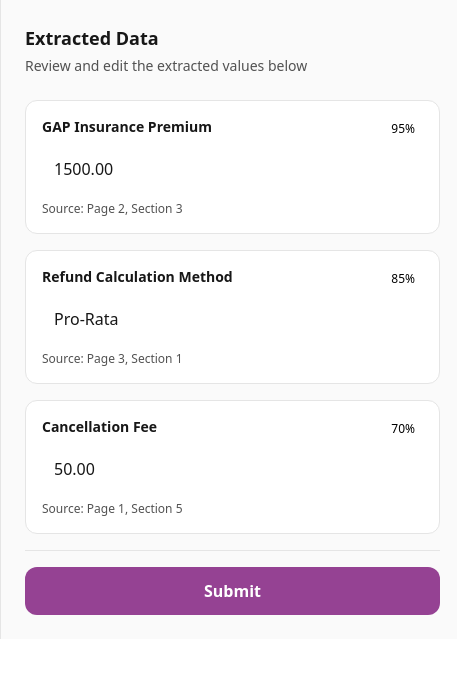
Scenario: DataPanel Component › Field Editing › should track corrections when field is edited
The image size is (457, 684).
// Click on GAP premium value to edit
Click the button "1500.00": (84, 169) 54,158 -> 113,180
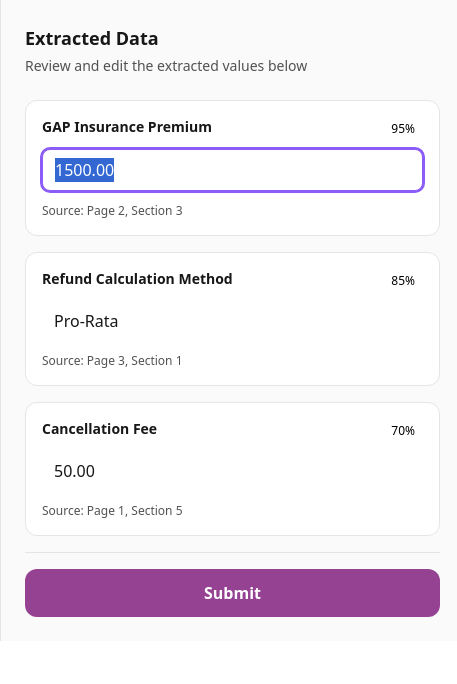
// Change value
Replace the text in the field with "1600.00": (232, 170) 42,149 -> 423,191
Then press Enter
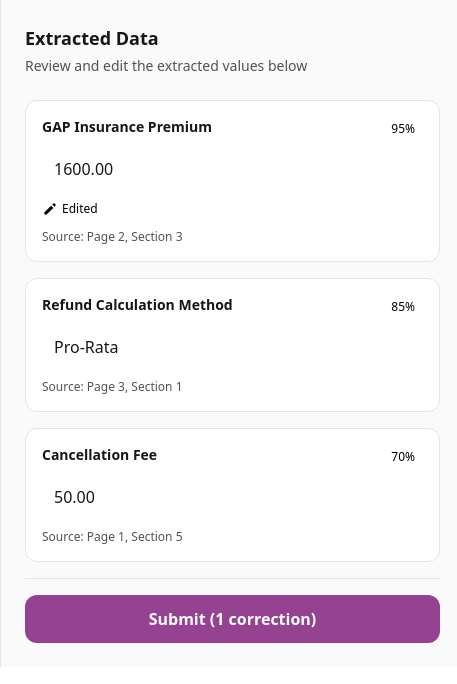
Result: the text "Edited" is shown at 62,201 -> 98,217
